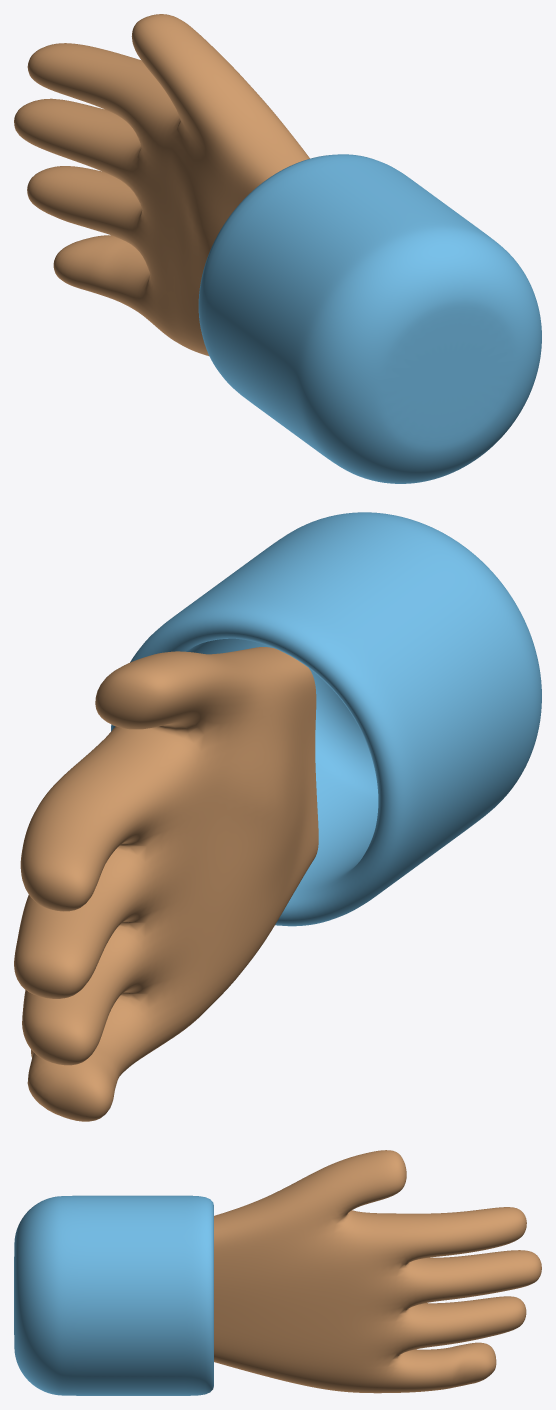
File: asdasdsa.glb
3 renders of one model, top to bottom at view 1: azimuth 30°, elevation 25°; view 2: azimuth 150°, elevation 25°; view 3: azimuth 270°, elevation 25°, orthographic. The views are drawn at different scales.
Visible parts, largest first — view 1: Cylinder, Plane; view 2: Plane, Cylinder; view 3: Plane, Cylinder.
Boxes of the visible parts, x1,y1,x2,y2 form: Cylinder: (198, 154, 541, 483); Plane: (14, 14, 309, 355); Plane: (14, 647, 318, 1121); Cylinder: (111, 512, 541, 926); Plane: (214, 1150, 541, 1393); Cylinder: (14, 1195, 213, 1395).
Size of the model in its own units: 1.9 by 2.38 by 5.01.
